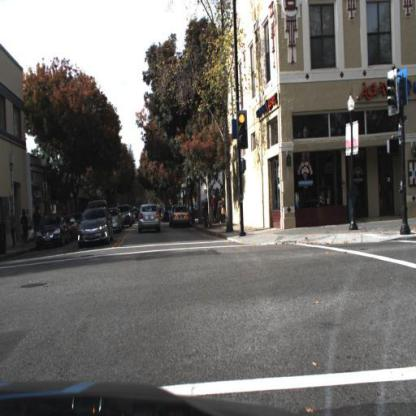car: (78, 208, 113, 247), (38, 215, 70, 249), (138, 200, 161, 234), (172, 207, 192, 229), (112, 208, 125, 235), (124, 204, 136, 231)
pedestrian: (406, 168, 416, 233), (36, 204, 44, 250), (8, 211, 17, 251), (10, 210, 18, 249), (33, 205, 42, 239), (22, 208, 29, 250), (27, 227, 35, 249), (212, 191, 217, 225)
trafficLight: (238, 112, 248, 152)
